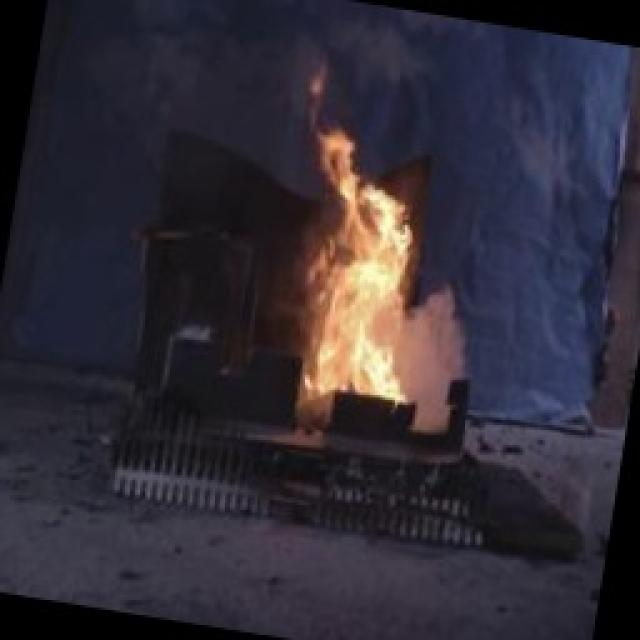fire: (261, 74, 444, 411)
